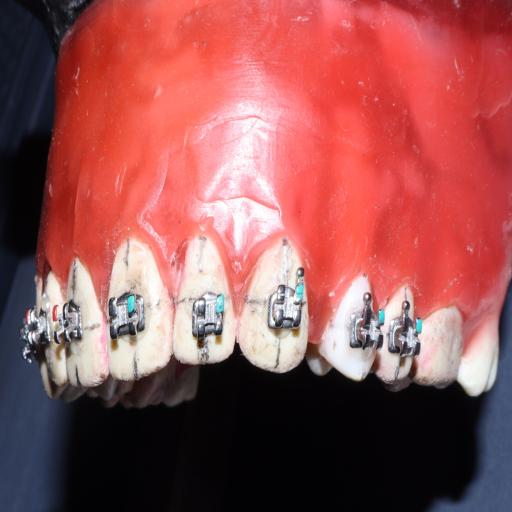incorrect_brace: (172, 236, 234, 362), (267, 286, 303, 338), (192, 294, 227, 344)
